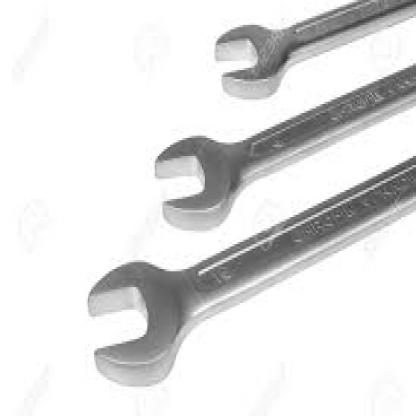Wrench: (82, 151, 416, 393), (149, 59, 416, 236), (211, 0, 416, 103)
